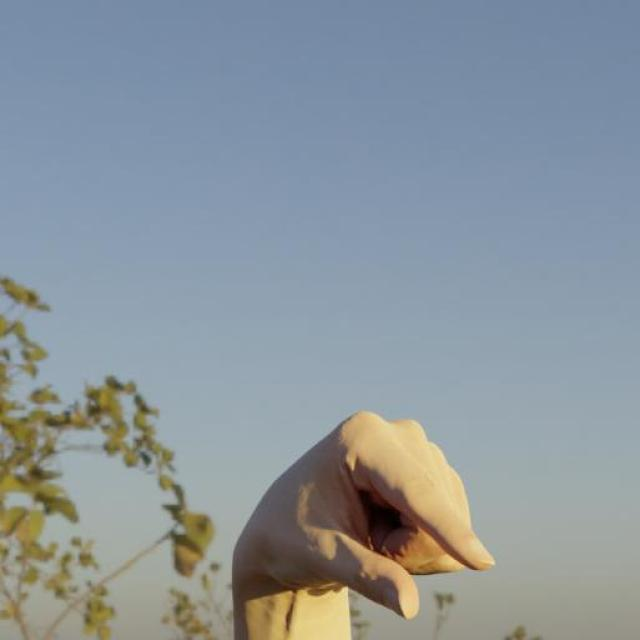Q: (229, 408, 498, 622)
